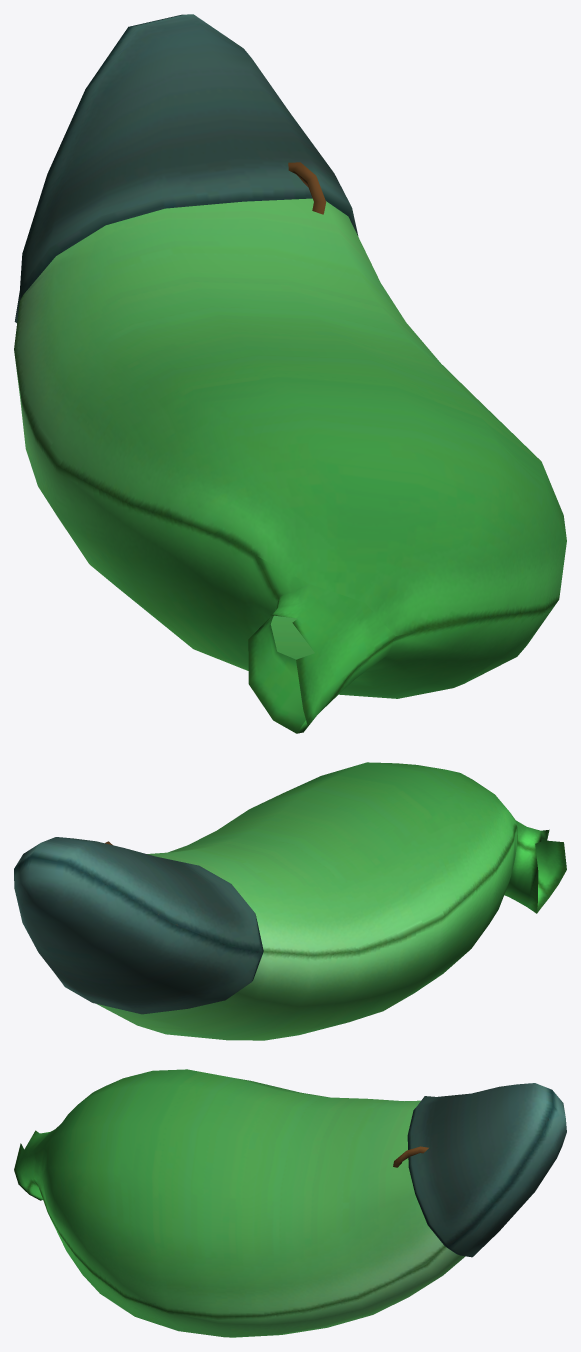
The model's file is stuffyflower_ala_izq.obj.
3 views of the same model, one above another, from view 1: azimuth 30°, elevation 25°; view 2: azimuth 150°, elevation 25°; view 3: azimuth 270°, elevation 25° (orthographic). The views are drawn at different scales.
Parts seen in each view (by area): view 1: stuffyflower_ala_izq; view 2: stuffyflower_ala_izq; view 3: stuffyflower_ala_izq.
Boxes of the visible parts, left/top/right/bottom form: stuffyflower_ala_izq: left=14, top=14, right=566, bottom=733; stuffyflower_ala_izq: left=14, top=762, right=566, bottom=1040; stuffyflower_ala_izq: left=14, top=1069, right=566, bottom=1337.
Bounding box in the file's own units: 0.2497 × 0.2251 × 0.4574.
